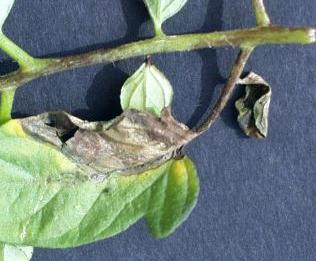Tomato leaf late blight: (0, 90, 210, 248)
